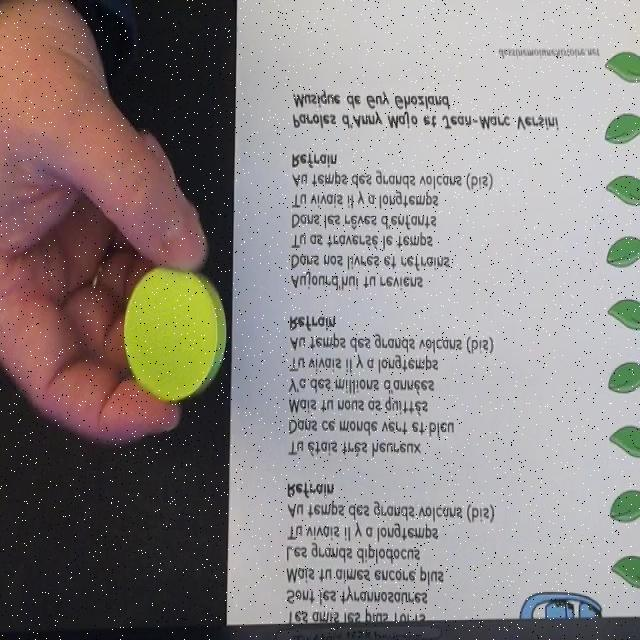round: (122, 264, 228, 403)
